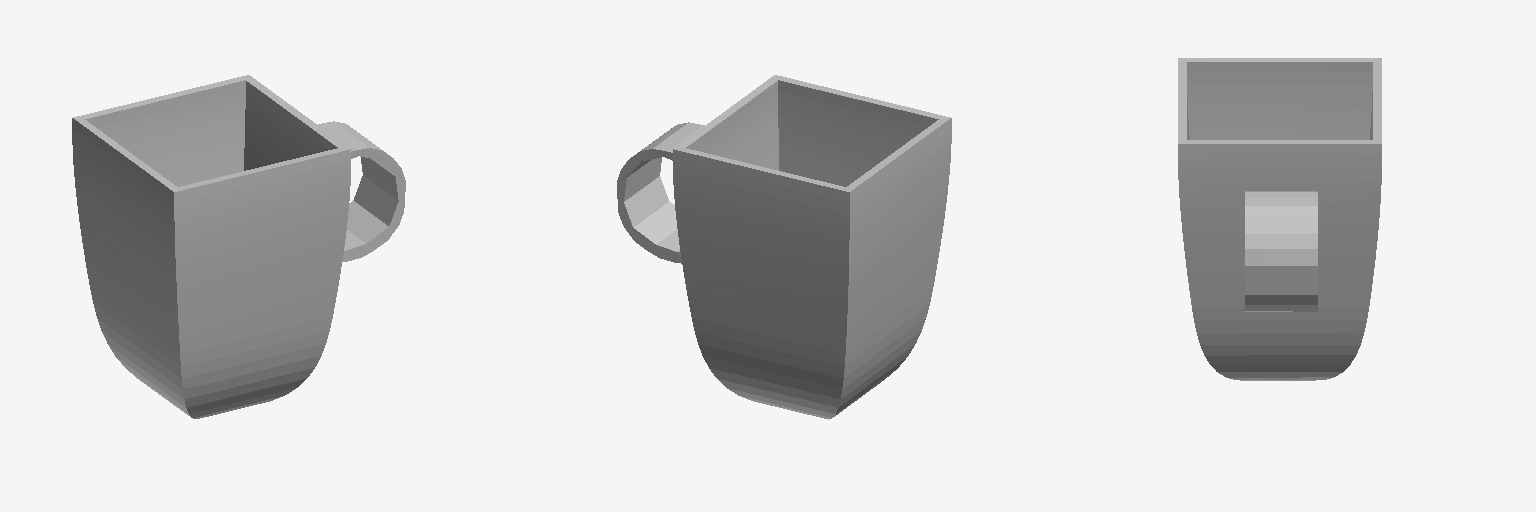
Rendered from mug.obj.
3 views of the same model, side by side, from view 1: azimuth 30°, elevation 25°; view 2: azimuth 150°, elevation 25°; view 3: azimuth 270°, elevation 25° (orthographic).
Parts seen in each view (by area): view 1: BezierCurve_BezierCurve.000; view 2: BezierCurve_BezierCurve.000; view 3: BezierCurve_BezierCurve.000.
Boxes of the visible parts, box(x1,y1,x2,y2) form: BezierCurve_BezierCurve.000: box(72, 75, 405, 418); BezierCurve_BezierCurve.000: box(617, 75, 951, 419); BezierCurve_BezierCurve.000: box(1178, 58, 1381, 380).
Size of the model in its own units: 1.64 by 1.58 by 1.1.